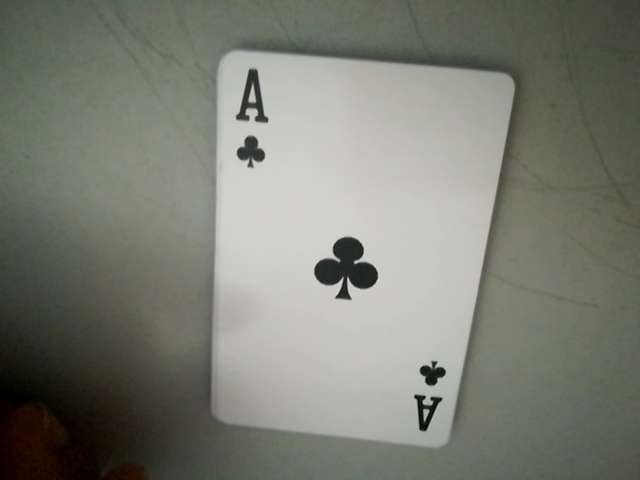mh a: (219, 55, 275, 173), (409, 355, 456, 443)
